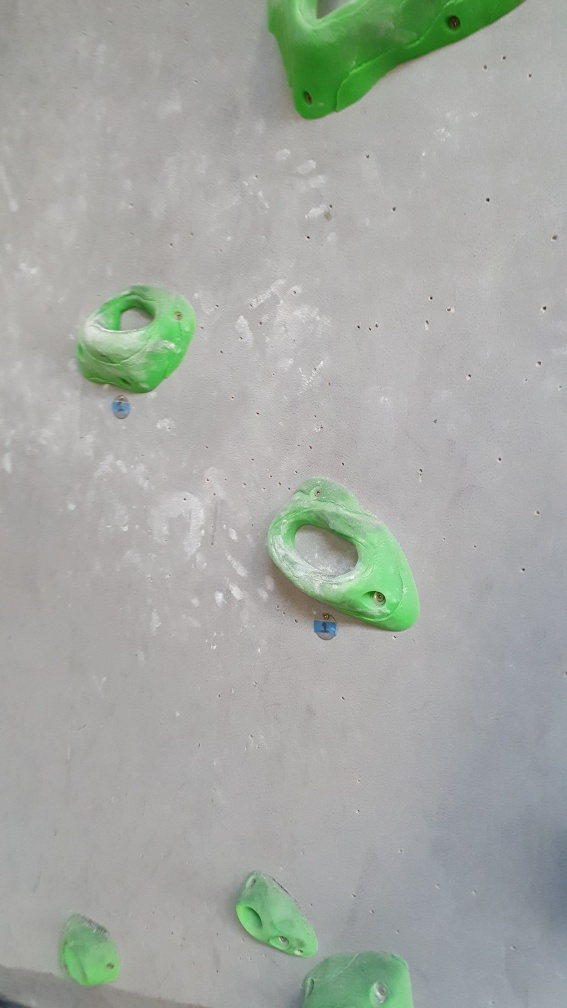Hand Start: (308, 612, 340, 641), (110, 394, 133, 422)
Pocket: (266, 477, 422, 636), (77, 281, 202, 394)
